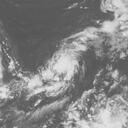cyclone: (44, 47, 80, 88)
